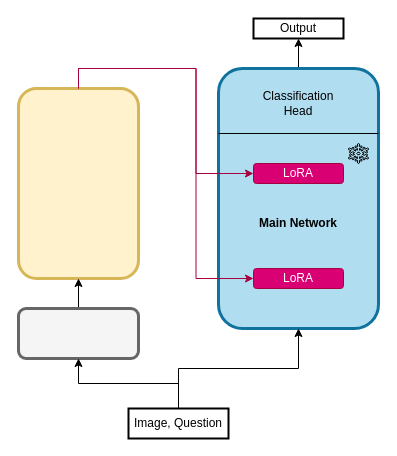
Some shapes in this 397 by 456 pixel diagram are drawn without their labels. Here are the shapes that lost their labels. From the top down, the centre of each, then its label:
At (x=78, y=183): "Hypernetwork".
At (x=78, y=333): "CLIP".
